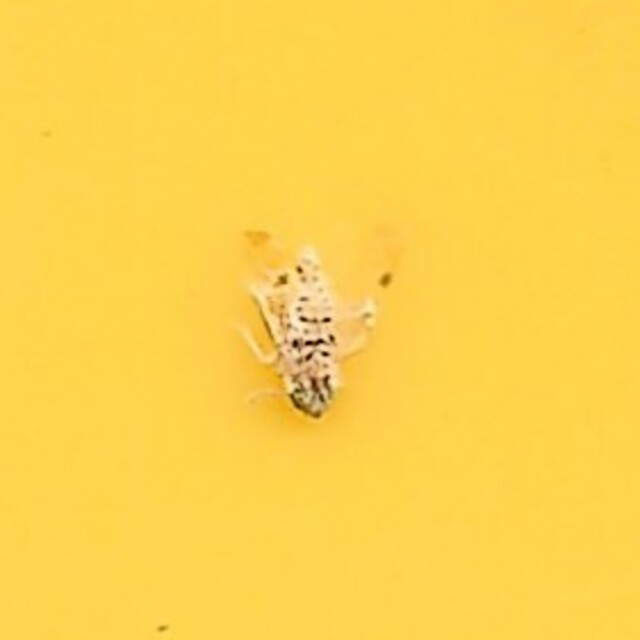Hemiptera: (228, 211, 412, 429)
